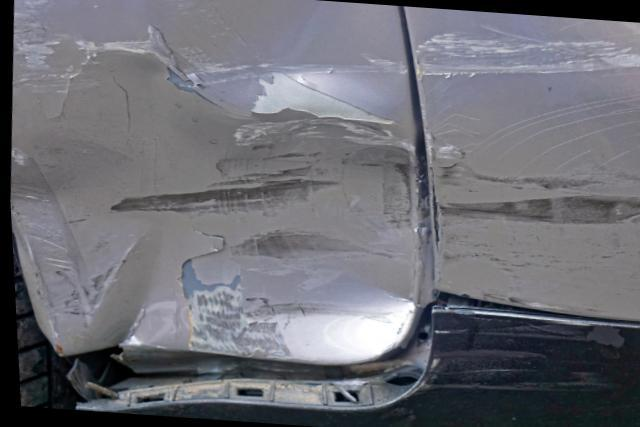dent: (8, 0, 418, 360)
scratch: (416, 16, 640, 321), (415, 305, 623, 400), (12, 0, 93, 89)
